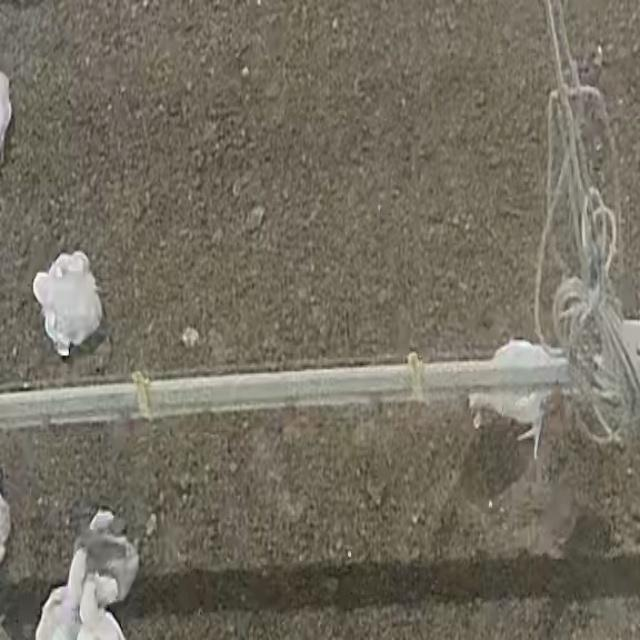chicken: (470, 333, 555, 462), (32, 250, 112, 359)
